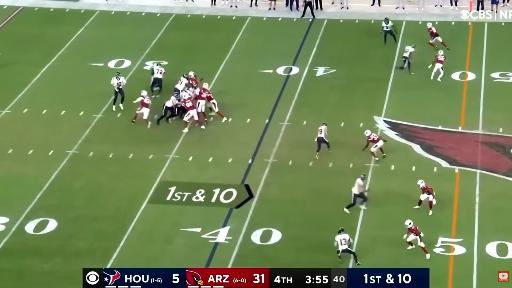Helmet: (180, 91, 190, 99), (405, 220, 413, 227), (418, 180, 425, 187), (187, 88, 194, 95), (173, 92, 180, 99), (364, 130, 371, 137), (338, 227, 344, 234), (360, 174, 366, 181), (426, 22, 432, 28), (203, 83, 209, 89), (116, 72, 121, 79), (141, 91, 147, 96), (189, 72, 194, 78), (384, 18, 389, 23), (182, 74, 187, 78), (438, 51, 443, 55), (155, 63, 161, 66), (323, 122, 327, 125), (411, 45, 415, 48)
Jersey: (335, 233, 352, 251), (352, 178, 365, 194), (111, 77, 126, 90), (136, 96, 151, 108), (182, 98, 195, 111), (197, 88, 211, 100), (176, 77, 188, 90), (421, 185, 434, 196), (165, 96, 178, 107), (154, 66, 165, 78), (204, 89, 214, 102), (367, 134, 381, 143), (428, 27, 439, 38), (408, 226, 420, 236), (382, 21, 393, 31), (404, 46, 414, 57), (318, 126, 327, 138), (189, 76, 198, 87), (180, 91, 191, 100), (436, 55, 445, 64)
Player: (404, 220, 430, 259), (335, 227, 360, 265), (203, 83, 227, 122), (344, 174, 367, 213), (182, 96, 205, 132), (414, 180, 435, 215), (157, 95, 180, 125), (363, 130, 386, 160), (132, 91, 151, 127), (195, 84, 210, 124), (427, 23, 449, 49), (111, 72, 126, 110), (316, 123, 331, 158), (429, 51, 445, 81), (151, 64, 165, 97), (400, 45, 415, 74), (381, 18, 397, 44), (174, 74, 189, 93), (188, 72, 198, 88)
